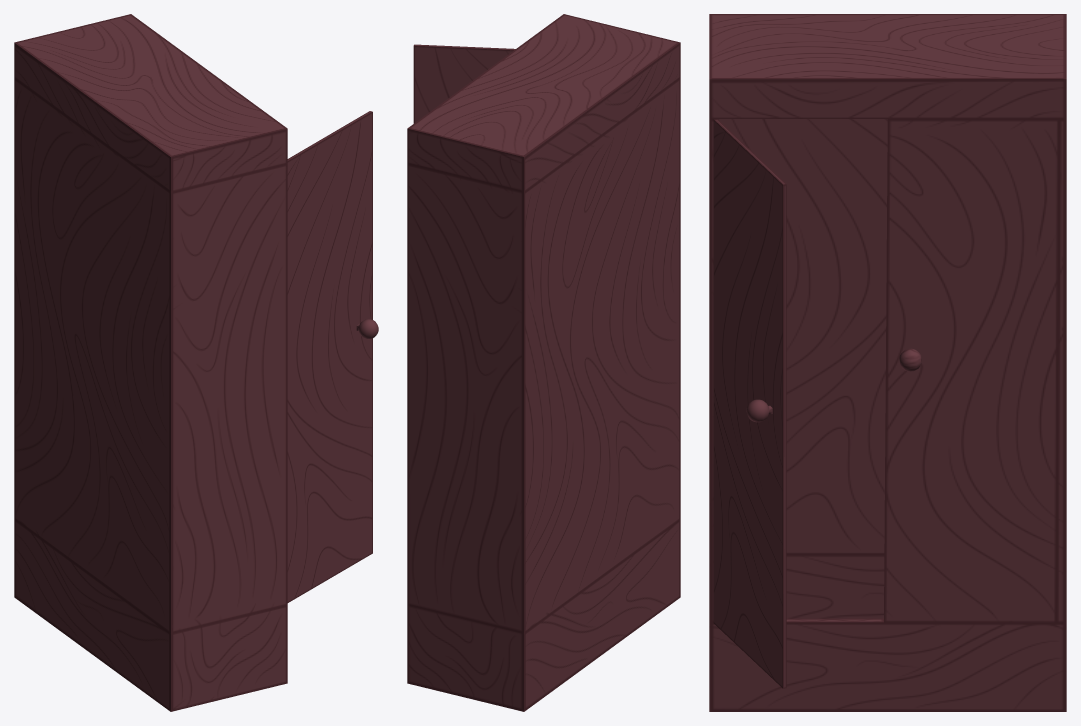
File: armariofinal.fbx
The picture shows the model from 3 angles, left to right: view 1: azimuth 30°, elevation 25°; view 2: azimuth 150°, elevation 25°; view 3: azimuth 270°, elevation 25°; orthographic projection. The views are drawn at different scales.
Visible parts, largest first — view 1: portaarmario2; view 2: portaarmario2; view 3: portaarmario2.
Part boxes in pixels (box(x1,y1,x2,y2)): portaarmario2: box(14, 14, 378, 711); portaarmario2: box(407, 14, 680, 711); portaarmario2: box(709, 14, 1066, 711).
Size of the model in its own units: 26.62 by 60.22 by 30.8.
2 materials, 2 textured.
